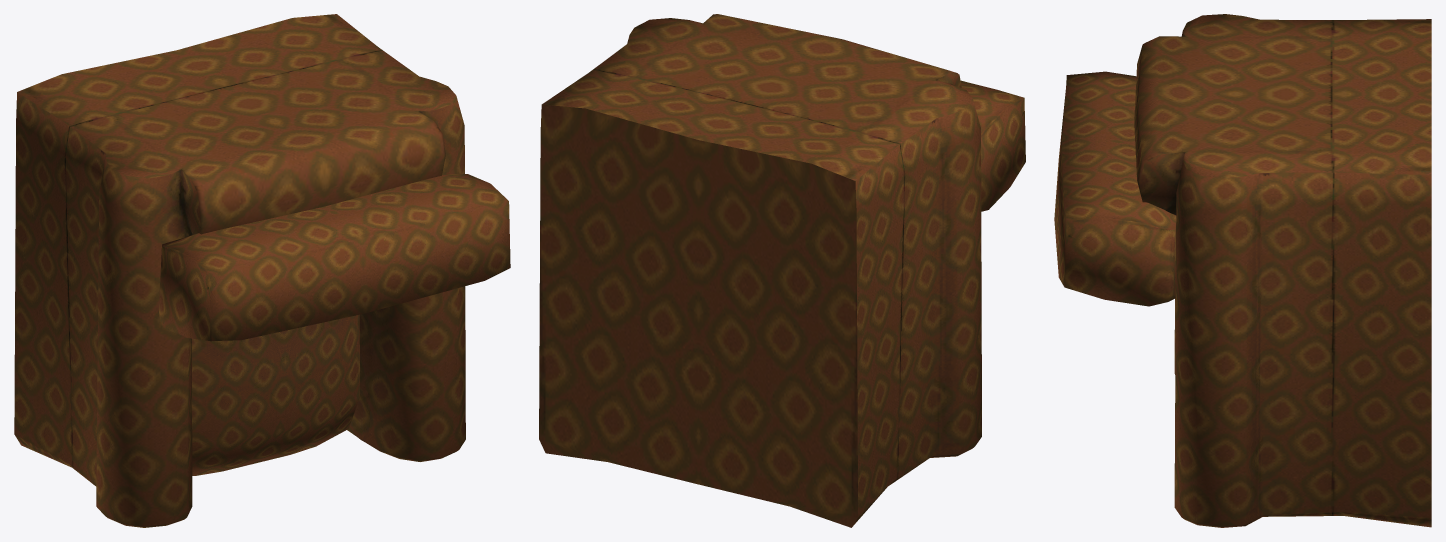
Rendered from nt_2020_moving_chair_01_LOD0.obj.
3 renders of one model, left to right at view 1: azimuth 30°, elevation 25°; view 2: azimuth 150°, elevation 25°; view 3: azimuth 270°, elevation 25°, orthographic.
Visible parts, largest first — view 1: mtl_nt_2020_moving_chair_01; view 2: mtl_nt_2020_moving_chair_01; view 3: mtl_nt_2020_moving_chair_01.
Part boxes in pixels (<box>): mtl_nt_2020_moving_chair_01: <box>14,14,510,527</box>; mtl_nt_2020_moving_chair_01: <box>539,14,1025,527</box>; mtl_nt_2020_moving_chair_01: <box>1054,14,1431,527</box>.
Size of the model in its own units: 100 by 97.73 by 92.51.
